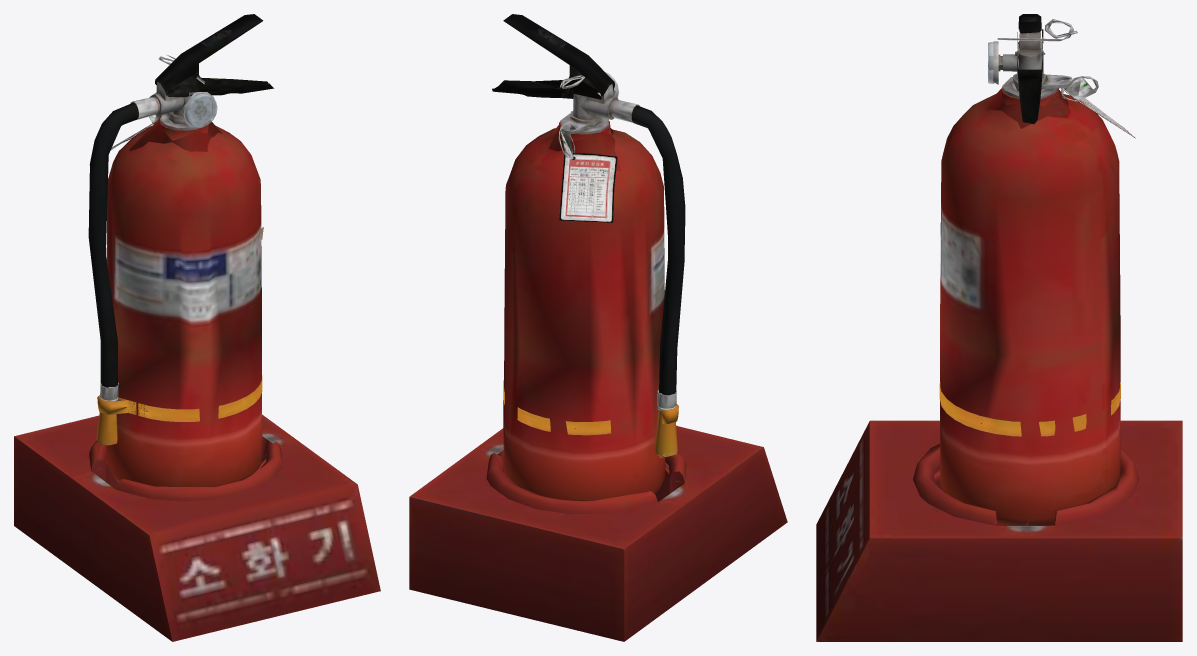
The model's file is korean_fire_extinguisher_01.glb.
3 renders of one model, left to right at view 1: azimuth 30°, elevation 25°; view 2: azimuth 150°, elevation 25°; view 3: azimuth 270°, elevation 25°, orthographic. The views are drawn at different scales.
Parts seen in each view (by area): view 1: korean_fire_extinguisher_01, korean_fire_extinguisher_01_lo; view 2: korean_fire_extinguisher_01, korean_fire_extinguisher_01_lo; view 3: korean_fire_extinguisher_01, korean_fire_extinguisher_01_lo.
Boxes of the visible parts, x1,y1,x2,y2 form: korean_fire_extinguisher_01: (88, 14, 380, 641); korean_fire_extinguisher_01_lo: (14, 92, 369, 641); korean_fire_extinguisher_01: (409, 14, 686, 641); korean_fire_extinguisher_01_lo: (409, 73, 787, 641); korean_fire_extinguisher_01: (816, 14, 1139, 641); korean_fire_extinguisher_01_lo: (816, 27, 1182, 641).
Size of the model in its own units: 0.279 by 0.6581 by 0.3675.
3 materials, 3 textured.
